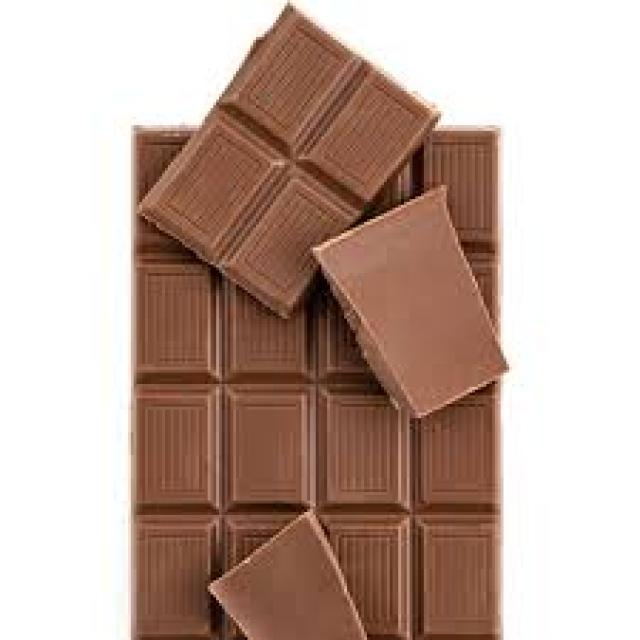Chocolate: (132, 121, 502, 640), (133, 0, 450, 318)
